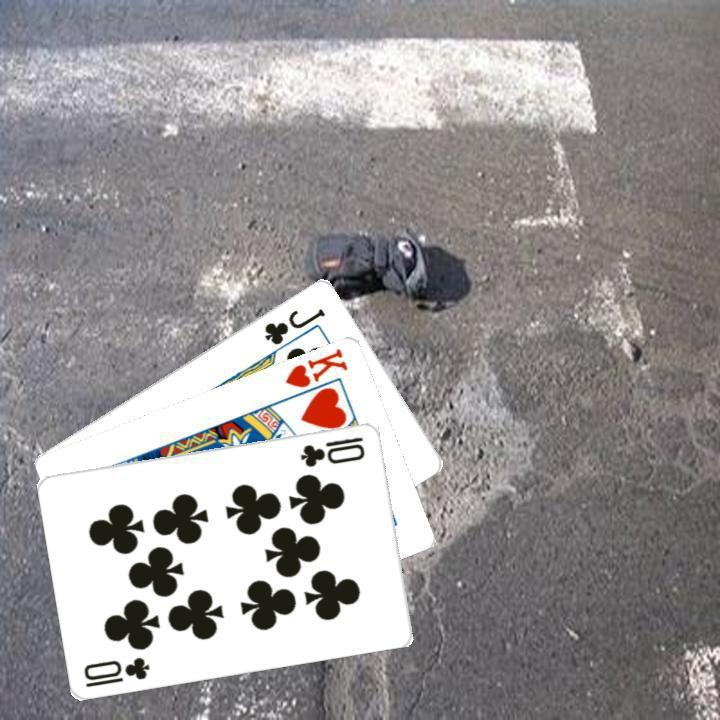10: (79, 652, 152, 689), (296, 431, 368, 468)
J: (259, 303, 327, 347)
K: (281, 343, 350, 390)
